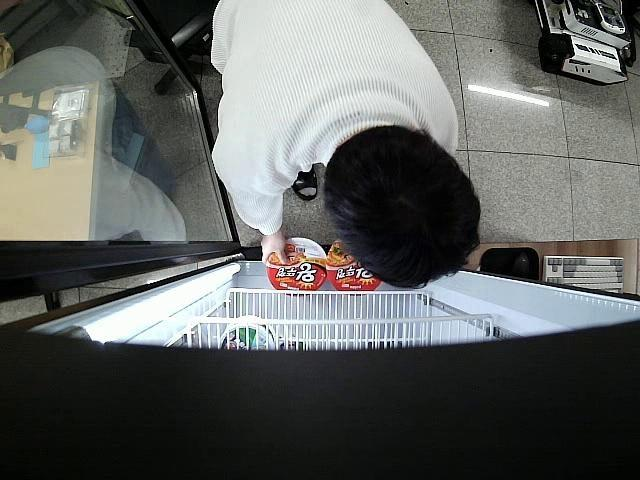10_wangTtukkeong: (269, 238, 325, 296)
